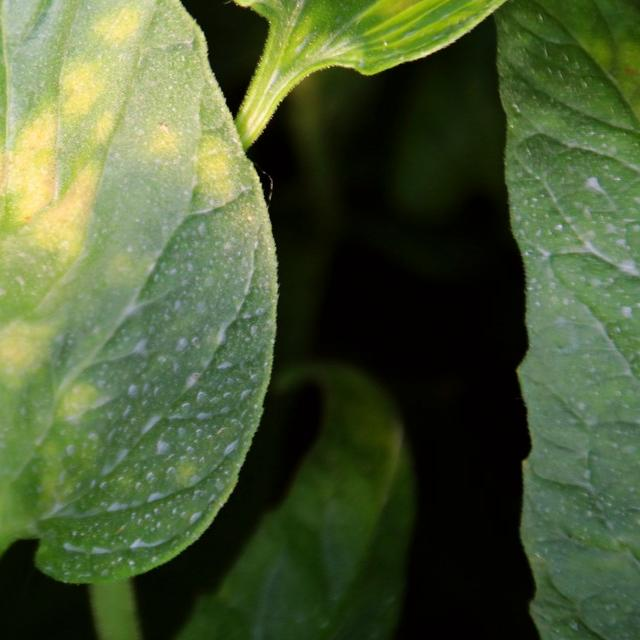Tomato mold leaf: (0, 0, 263, 619)
